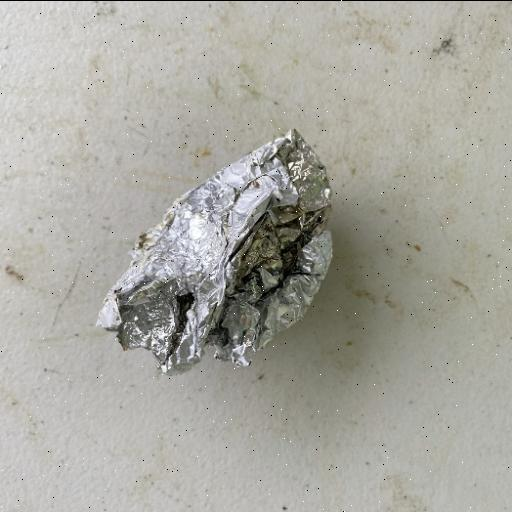Metal: (94, 127, 336, 377)
